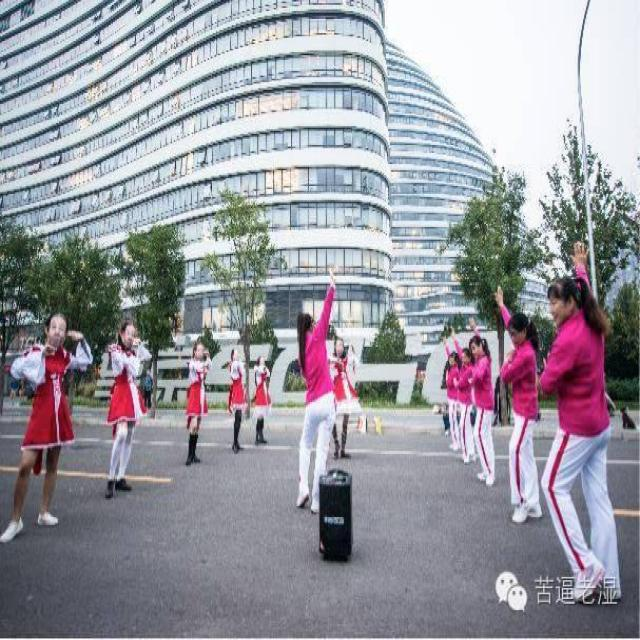non-fight: (534, 239, 622, 606), (11, 312, 81, 533), (497, 304, 547, 524), (292, 306, 341, 511), (102, 325, 142, 498), (183, 337, 209, 467), (228, 345, 248, 451)
